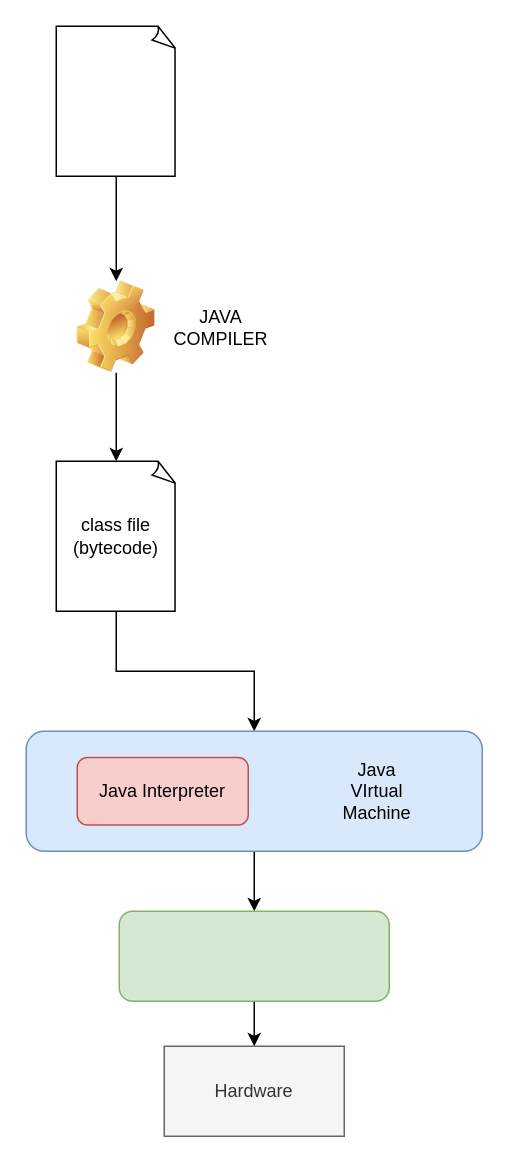
Some shapes in this 509 by 1163 pixel diagram are drawn without their labels. The shapes that lost their labels are listed below. From the top down, each one's box as (x1, y1, x2, y2) in pixels, then its label:
(55, 25, 176, 176): Java file
(118, 910, 389, 1001): Operating System
